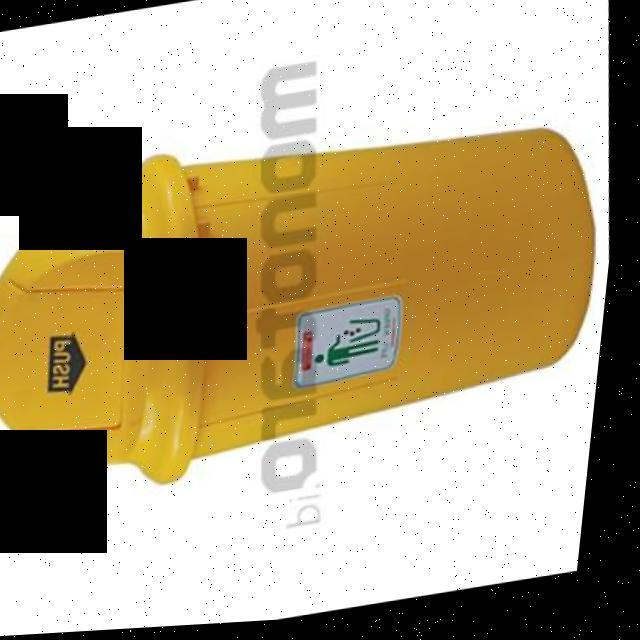bin: (0, 58, 633, 533)
